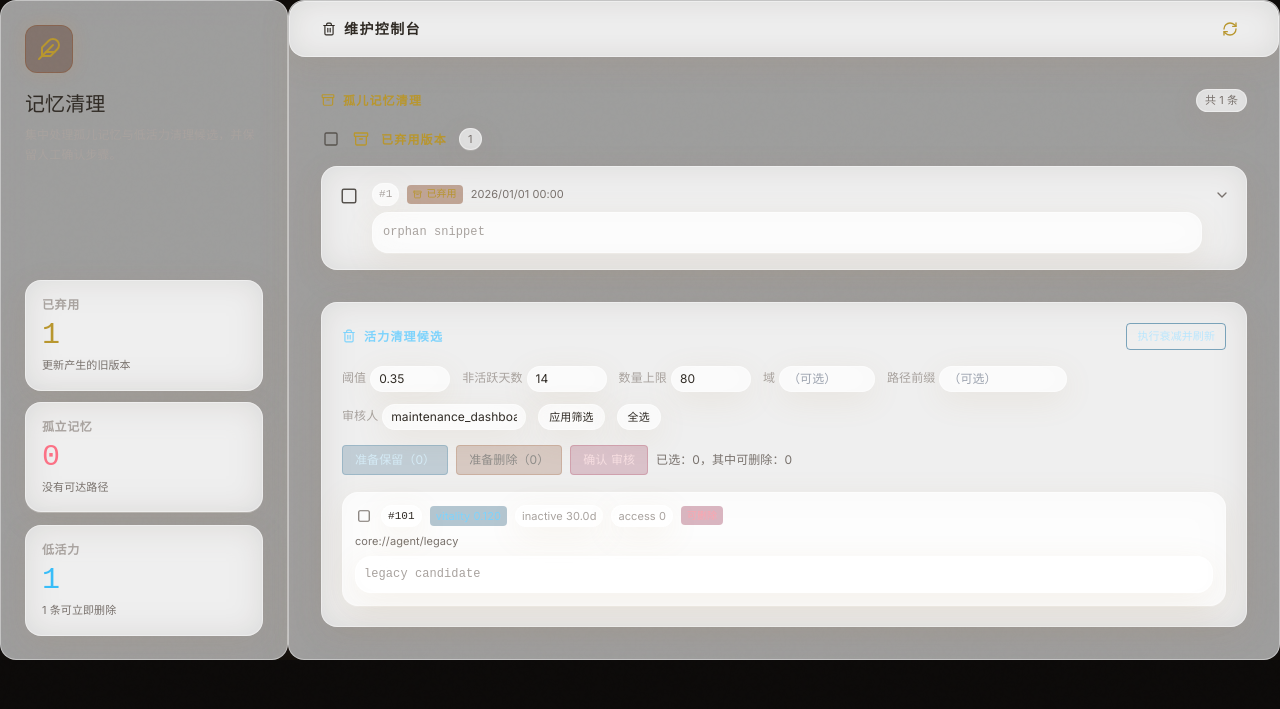
Test: MaintenancePage › keeps prepared review for retry when confirm returns structured confirmation_phrase_mismatch detail
Expected: the text "legacy candidate" is shown, [355,556,1213,593]
Click the button "全选" at (639, 416), box [617,404,661,430]
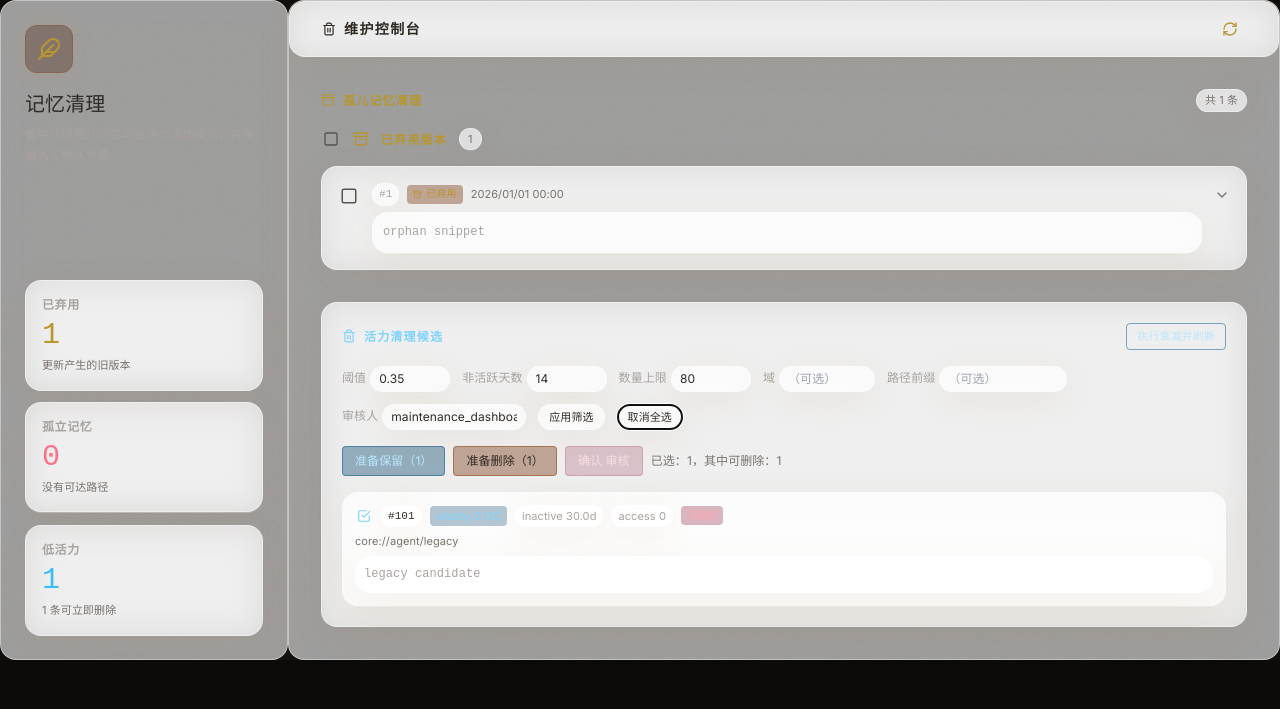
Click the button "准备删除（1）" at (505, 460), box [454,446,557,476]
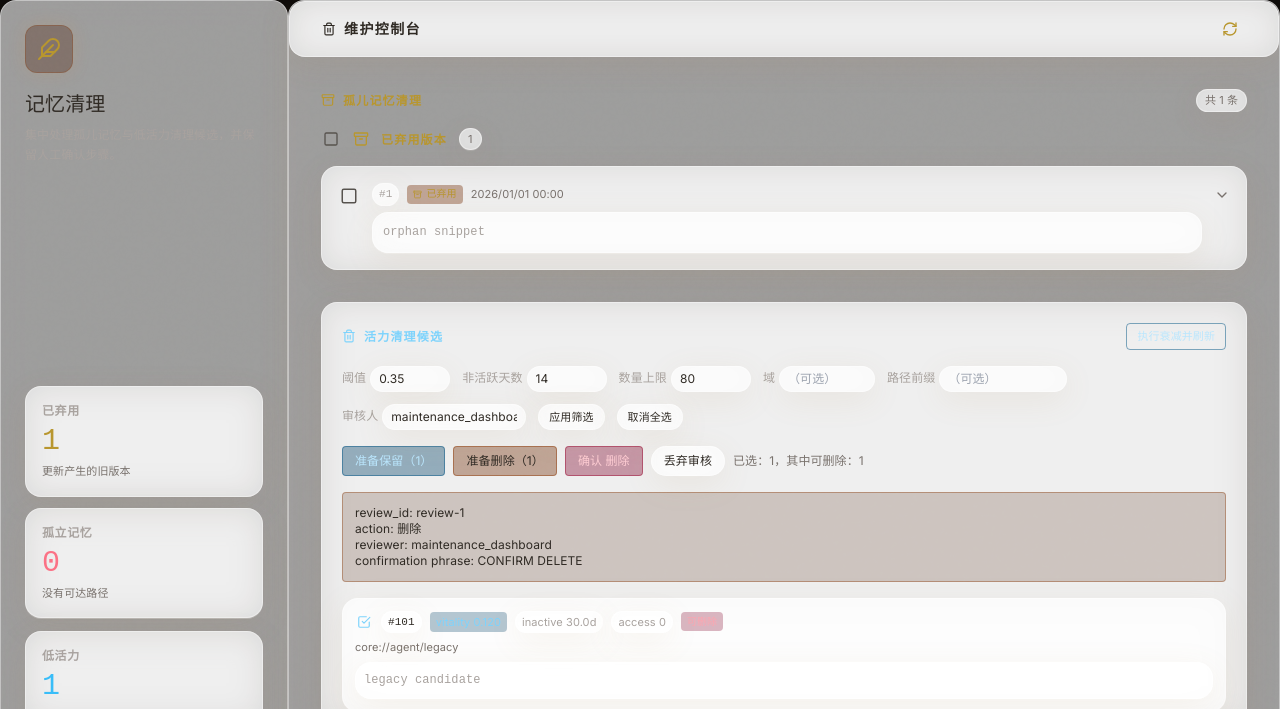
Click the button "确认 删除" at (604, 460), box [565,446,643,476]
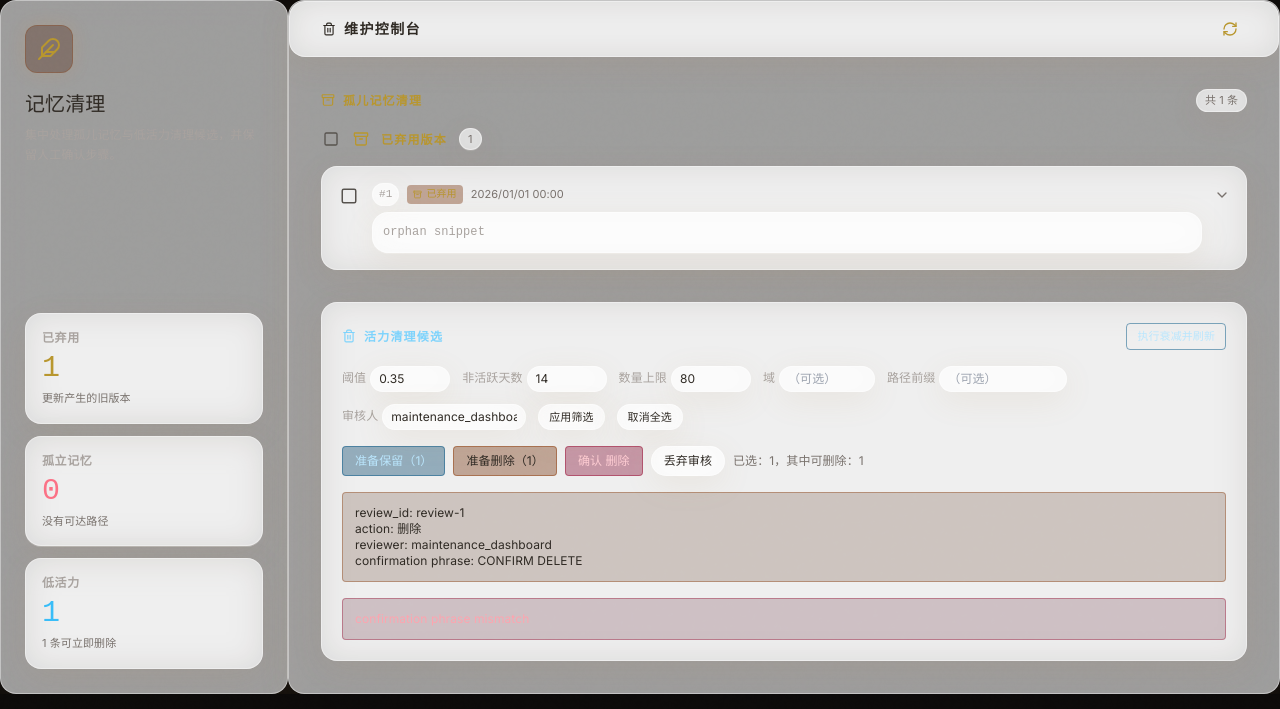
Expected: the text "confirmation phrase mismatch" is shown, [342,598,1226,640]
